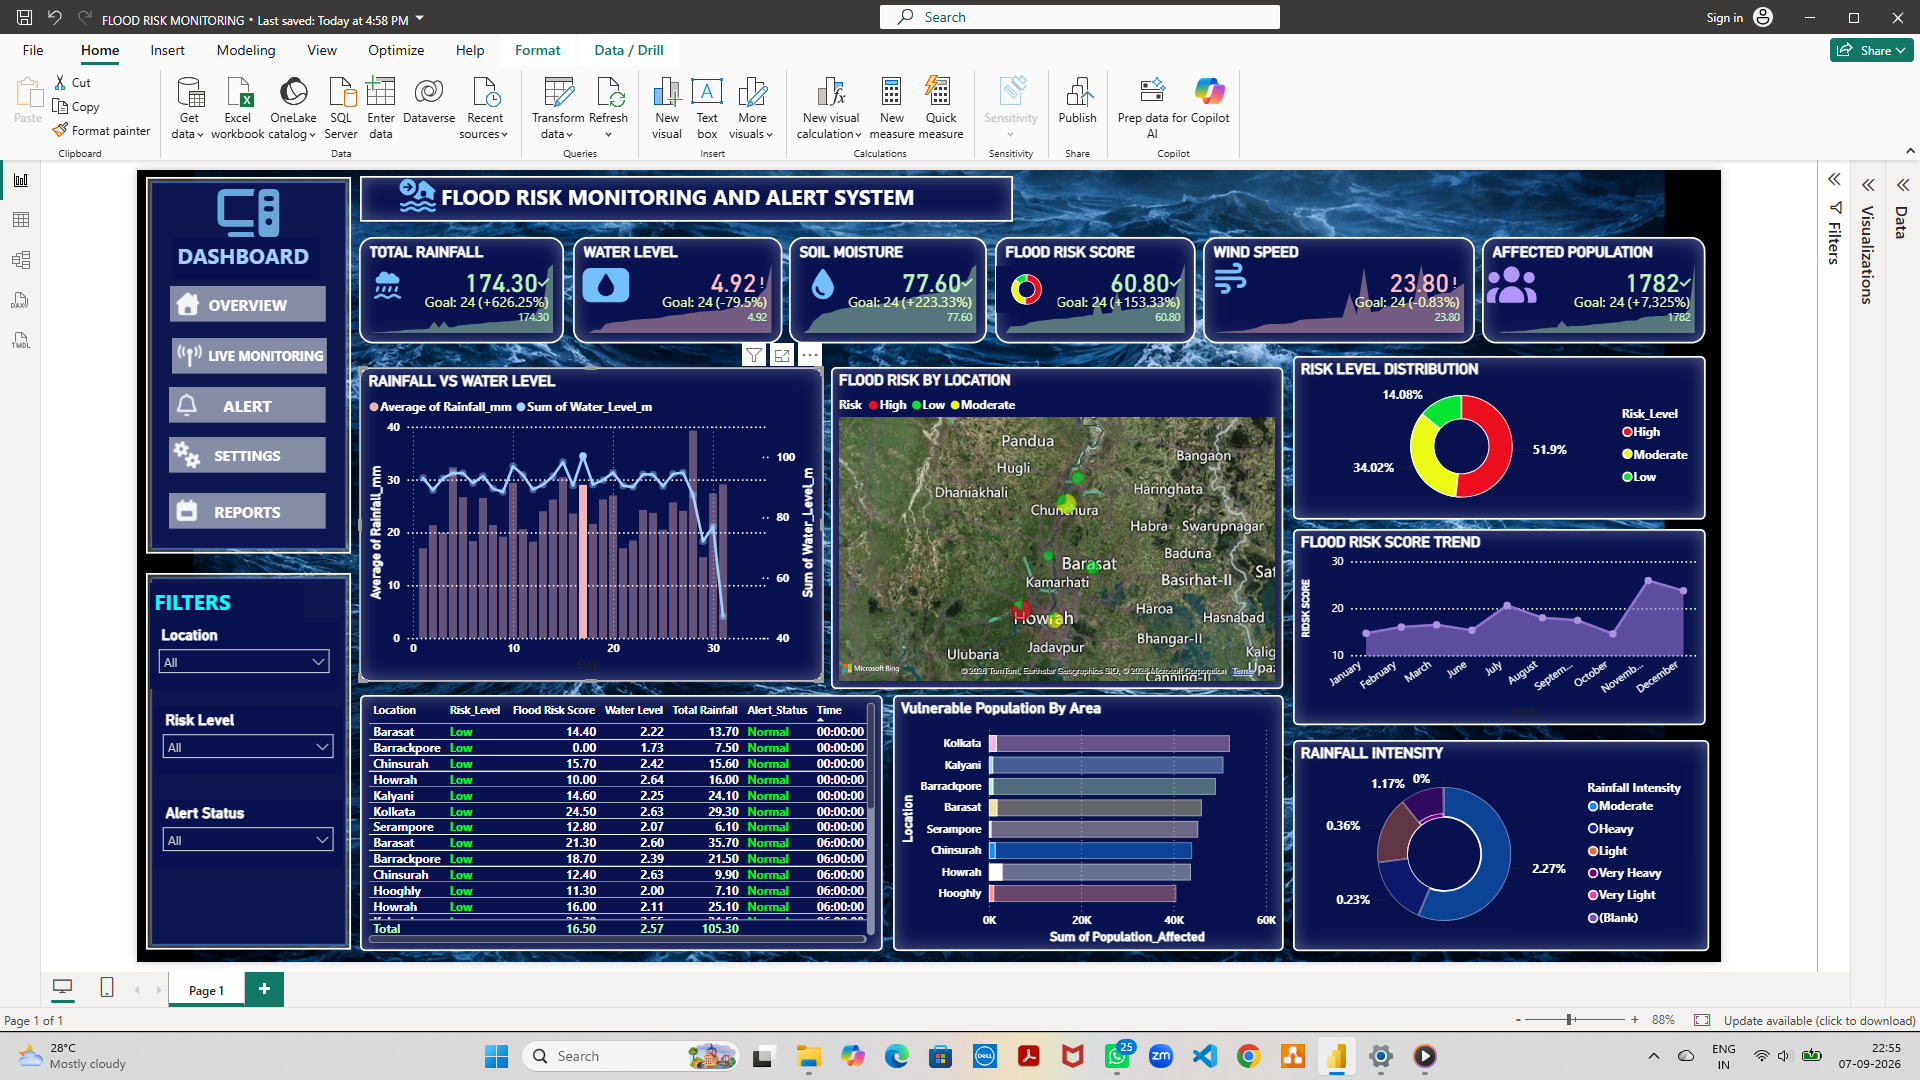

The dashboard page shown, as its layout file describes it:
{"tool":"powerbi","page":{"name":"Page 1","canvas":[1800,900],"ordinal":0},"visuals":[{"type":"textbox","box":[253.6,7.1,742.2,52.3],"z":0},{"type":"stackedAreaChart","title":"FLOOD RISK SCORE TREND","fields":{"Category":["Smart_Flood_Risk_Dataset.Date.Variation.Date Hierarchy.Month"],"Y":["Smart_Flood_Risk_Dataset.Flood Risk Score"]},"box":[1313.8,407.5,468.8,222.5],"z":1000},{"type":"donutChart","title":"RISK LEVEL DISTRIBUTION","fields":{"Category":["Smart_Flood_Risk_Dataset.Risk_Level"],"Y":["Smart_Flood_Risk_Dataset.Flood Risk Score"]},"box":[1313.8,211.2,468.8,186.2],"z":2000},{"type":"donutChart","title":"RAINFALL INTENSITY","fields":{"Y":["Sum(Smart_Flood_Risk_Dataset.Rainfall_mm)"],"Category":["Smart_Flood_Risk_Dataset.Rainfall Intensity"]},"box":[1313.8,647.5,472.5,240],"z":3000},{"type":"lineClusteredColumnComboChart","title":"RAINFALL VS WATER LEVEL","fields":{"Y":["Avg(Smart_Flood_Risk_Dataset.Rainfall_mm)"],"Category":["Smart_Flood_Risk_Dataset.Date.Variation.Date Hierarchy.Day"],"Y2":["Sum(Smart_Flood_Risk_Dataset.Water_Level_m)"]},"box":[252.5,223.8,527.5,357.5],"z":4000},{"type":"tableEx","fields":{"Values":["Smart_Flood_Risk_Dataset.Location","Smart_Flood_Risk_Dataset.Risk_Level","Smart_Flood_Risk_Dataset.Flood Risk Score","Smart_Flood_Risk_Dataset.Water Level","Smart_Flood_Risk_Dataset.Total Rainfall","Smart_Flood_Risk_Dataset.Alert_Status","Smart_Flood_Risk_Dataset.Time"]},"box":[253.8,596.2,593.8,291.2],"z":5000},{"type":"barChart","title":"Vulnerable Population By Area","fields":{"Y":["Sum(Smart_Flood_Risk_Dataset.Population_Affected)"],"Category":["Smart_Flood_Risk_Dataset.Location"]},"box":[858.8,596.2,443.8,291.2],"z":6000},{"type":"map","title":"FLOOD RISK BY LOCATION","fields":{"Category":["Smart_Flood_Risk_Dataset.Location"],"Y":["Avg(Smart_Flood_Risk_Dataset.Latitude)"],"X":["Avg(Smart_Flood_Risk_Dataset.Longitude)"],"Series":["Smart_Flood_Risk_Dataset.Risk_Level"],"Size":["Smart_Flood_Risk_Dataset.Flood Risk Score"]},"box":[788.8,223.8,513.8,366.2],"z":7000},{"type":"kpi","title":"TOTAL RAINFALL","fields":{"Indicator":["Sum(Smart_Flood_Risk_Dataset.Rainfall_mm)"],"TrendLine":["Smart_Flood_Risk_Dataset.Rainfall_mm"],"Goal":["CountNonNull(Smart_Flood_Risk_Dataset.Date.Variation.Date Hierarchy.Day)"]},"box":[252.5,76.2,232.5,121.2],"z":8000},{"type":"kpi","title":"WATER LEVEL ","fields":{"Indicator":["Avg(Smart_Flood_Risk_Dataset.Water_Level_m)"],"TrendLine":["Smart_Flood_Risk_Dataset.Water_Level_m"],"Goal":["CountNonNull(Smart_Flood_Risk_Dataset.Date.Variation.Date Hierarchy.Day)"]},"box":[495,76.2,237.5,121.2],"z":9000},{"type":"kpi","title":"SOIL MOISTURE","fields":{"Indicator":["Avg(Smart_Flood_Risk_Dataset.Soil_Moisture_pct)"],"TrendLine":["Smart_Flood_Risk_Dataset.Soil_Moisture_pct"],"Goal":["CountNonNull(Smart_Flood_Risk_Dataset.Date.Variation.Date Hierarchy.Day)"]},"box":[741.2,76.2,225,121.2],"z":10000},{"type":"kpi","title":"FLOOD RISK SCORE","fields":{"Indicator":["Sum(Smart_Flood_Risk_Dataset.Flood_Risk_Score)"],"Goal":["CountNonNull(Smart_Flood_Risk_Dataset.Date.Variation.Date Hierarchy.Day)"],"TrendLine":["Smart_Flood_Risk_Dataset.Flood_Risk_Score"]},"box":[975,76.2,227.5,121.2],"z":11000},{"type":"kpi","title":"WIND SPEED","fields":{"Indicator":["Sum(Smart_Flood_Risk_Dataset.Wind_Speed_kmh)"],"TrendLine":["Smart_Flood_Risk_Dataset.Wind_Speed_kmh"],"Goal":["CountNonNull(Smart_Flood_Risk_Dataset.Date.Variation.Date Hierarchy.Day)"]},"box":[1211.2,76.2,308.8,121.2],"z":12000},{"type":"kpi","title":"AFFECTED POPULATION","fields":{"Indicator":["Sum(Smart_Flood_Risk_Dataset.Population_Affected)"],"TrendLine":["Smart_Flood_Risk_Dataset.Population_Affected"],"Goal":["CountNonNull(Smart_Flood_Risk_Dataset.Date.Variation.Date Hierarchy.Day)"]},"box":[1528.8,76.2,253.8,121.2],"z":13000},{"type":"shape","box":[9.9,7.4,233.3,428.4],"z":14000},{"type":"shape","box":[9.9,458,233.3,428.4],"z":15000},{"type":"image","box":[87.7,0,77.8,97.5],"z":16000},{"type":"textbox","box":[40.7,76.5,166.7,48.1],"z":17000},{"type":"textbox","box":[15.2,469.6,174.7,49.4],"z":18000},{"type":"slicer","fields":{"Values":["Smart_Flood_Risk_Dataset.Location"]},"box":[15.2,513.9,213.9,75.9],"z":19000},{"type":"slicer","fields":{"Values":["Smart_Flood_Risk_Dataset.Risk_Level"]},"box":[19,610.1,213.9,75.9],"z":20000},{"type":"slicer","fields":{"Values":["Smart_Flood_Risk_Dataset.Alert_Status"]},"box":[19,716.5,213.9,75.9],"z":21000},{"type":"image","box":[284.8,7.6,68.4,41.8],"z":22000},{"type":"image","box":[753.2,108.9,51.9,41.8],"z":23000},{"type":"image","box":[503.8,84.8,59.5,93.7],"z":24000},{"type":"image","box":[251.9,111.4,64.6,39.2],"z":25000},{"type":"image","box":[1202.5,101.3,81,44.3],"z":26000},{"type":"donutChart","title":"RISK LEVEL DISTRIBUTION","fields":{"Category":["Smart_Flood_Risk_Dataset.Risk_Level"],"Y":["Smart_Flood_Risk_Dataset.Flood Risk Score"]},"box":[975.9,108.9,69.6,53.2],"z":27000},{"type":"image","box":[1529.1,102.5,64.6,57],"z":28000},{"type":"actionButton","box":[38,131.6,177.2,40.5],"z":29000},{"type":"actionButton","box":[39.2,191.1,175.9,40.5],"z":30000},{"type":"actionButton","box":[36.7,246.8,178.5,40.5],"z":31000},{"type":"actionButton","box":[36.7,303.8,178.5,40.5],"z":32000},{"type":"actionButton","box":[36.7,367.1,178.5,40.5],"z":33000}]}

Visuals, with their boxes on the page's 1800x900 design canvas (x1, y1, x2, y2). These are canvas units, not pixel positions in the 1920x1080 screenshot, which may show the page scaled, cropped or inside an application window:
textbox: [254, 7, 996, 59]
"FLOOD RISK SCORE TREND" stackedAreaChart: [1314, 408, 1783, 630]
"RISK LEVEL DISTRIBUTION" donutChart: [1314, 211, 1783, 397]
"RAINFALL INTENSITY" donutChart: [1314, 648, 1786, 888]
"RAINFALL VS WATER LEVEL" lineClusteredColumnComboChart: [252, 224, 780, 581]
tableEx - Smart_Flood_Risk_Dataset.Location x Smart_Flood_Risk_Dataset.Risk_Level: [254, 596, 848, 887]
"Vulnerable Population By Area" barChart: [859, 596, 1303, 887]
"FLOOD RISK BY LOCATION" map: [789, 224, 1303, 590]
"TOTAL RAINFALL" kpi: [252, 76, 485, 197]
"WATER LEVEL " kpi: [495, 76, 732, 197]
"SOIL MOISTURE" kpi: [741, 76, 966, 197]
"FLOOD RISK SCORE" kpi: [975, 76, 1202, 197]
"WIND SPEED" kpi: [1211, 76, 1520, 197]
"AFFECTED POPULATION" kpi: [1529, 76, 1783, 197]
shape: [10, 7, 243, 436]
shape: [10, 458, 243, 886]
image: [88, 0, 166, 98]
textbox: [41, 76, 207, 125]
textbox: [15, 470, 190, 519]
slicer - Smart_Flood_Risk_Dataset.Location: [15, 514, 229, 590]
slicer - Smart_Flood_Risk_Dataset.Risk_Level: [19, 610, 233, 686]
slicer - Smart_Flood_Risk_Dataset.Alert_Status: [19, 716, 233, 792]
image: [285, 8, 353, 49]
image: [753, 109, 805, 151]
image: [504, 85, 563, 178]
image: [252, 111, 316, 151]
image: [1202, 101, 1284, 146]
"RISK LEVEL DISTRIBUTION" donutChart: [976, 109, 1046, 162]
image: [1529, 102, 1594, 160]
actionButton: [38, 132, 215, 172]
actionButton: [39, 191, 215, 232]
actionButton: [37, 247, 215, 287]
actionButton: [37, 304, 215, 344]
actionButton: [37, 367, 215, 408]
